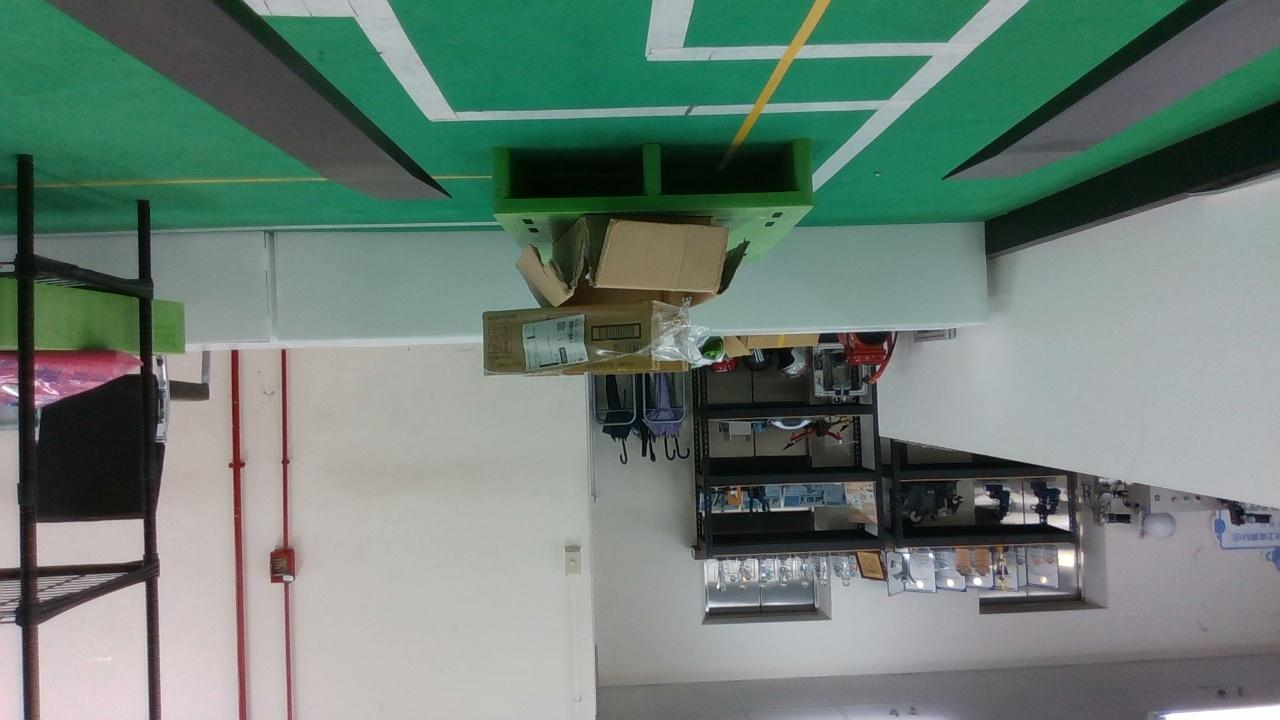Pallet: (485, 138, 817, 219)
